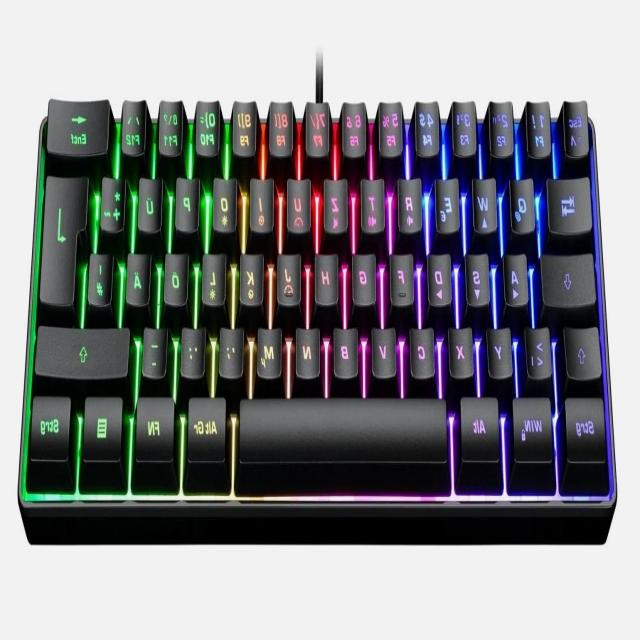0: (195, 100, 221, 158)
1: (527, 94, 554, 158)
2: (489, 95, 516, 159)
3: (452, 96, 479, 158)
4: (415, 100, 441, 158)
5: (378, 100, 404, 158)
6: (342, 100, 368, 158)
7: (306, 97, 332, 155)
8: (269, 98, 295, 156)
9: (232, 99, 258, 157)
a: (505, 248, 531, 304)
accent: (121, 93, 149, 157)
ae: (127, 247, 153, 303)
alt-left: (460, 390, 503, 462)
altgr-right: (188, 389, 230, 461)
b: (334, 321, 360, 375)
c: (411, 321, 437, 375)
caret: (563, 95, 590, 159)
comma: (220, 320, 246, 374)
d: (429, 247, 455, 305)
del: (48, 94, 114, 158)
e: (436, 171, 462, 233)
enter: (40, 167, 92, 307)
f: (391, 247, 416, 303)
g: (353, 247, 378, 303)
h: (315, 247, 341, 303)
hash: (89, 247, 115, 303)
i: (250, 171, 275, 231)
j: (278, 247, 303, 303)
k: (240, 247, 266, 303)
keyboard: (12, 84, 626, 533)
l: (203, 247, 229, 303)
less: (527, 321, 555, 377)
m: (258, 321, 285, 377)
minus: (144, 322, 170, 374)
n: (297, 321, 323, 375)
o: (213, 171, 239, 231)
oe: (165, 247, 191, 303)
p: (176, 170, 202, 230), (172, 153, 198, 213)
plus: (101, 170, 128, 232)
point: (182, 321, 208, 373)
q: (512, 171, 538, 233)
r: (398, 172, 424, 232)
s: (467, 247, 493, 305)
shift-left: (565, 322, 605, 378)
shift-lock: (541, 250, 599, 306)
shift-right: (36, 321, 134, 377)
space: (239, 392, 453, 464)
ss: (158, 95, 186, 157)
strg-left: (565, 390, 611, 464)
strg-right: (30, 388, 74, 458)
t: (360, 175, 386, 235)
tab: (547, 172, 595, 232)
u: (287, 171, 313, 231)
ue: (139, 170, 165, 230)
v: (373, 321, 399, 375)
w: (474, 170, 500, 230)
x: (450, 321, 476, 375)
y: (488, 322, 516, 376)
z: (324, 171, 350, 231)
